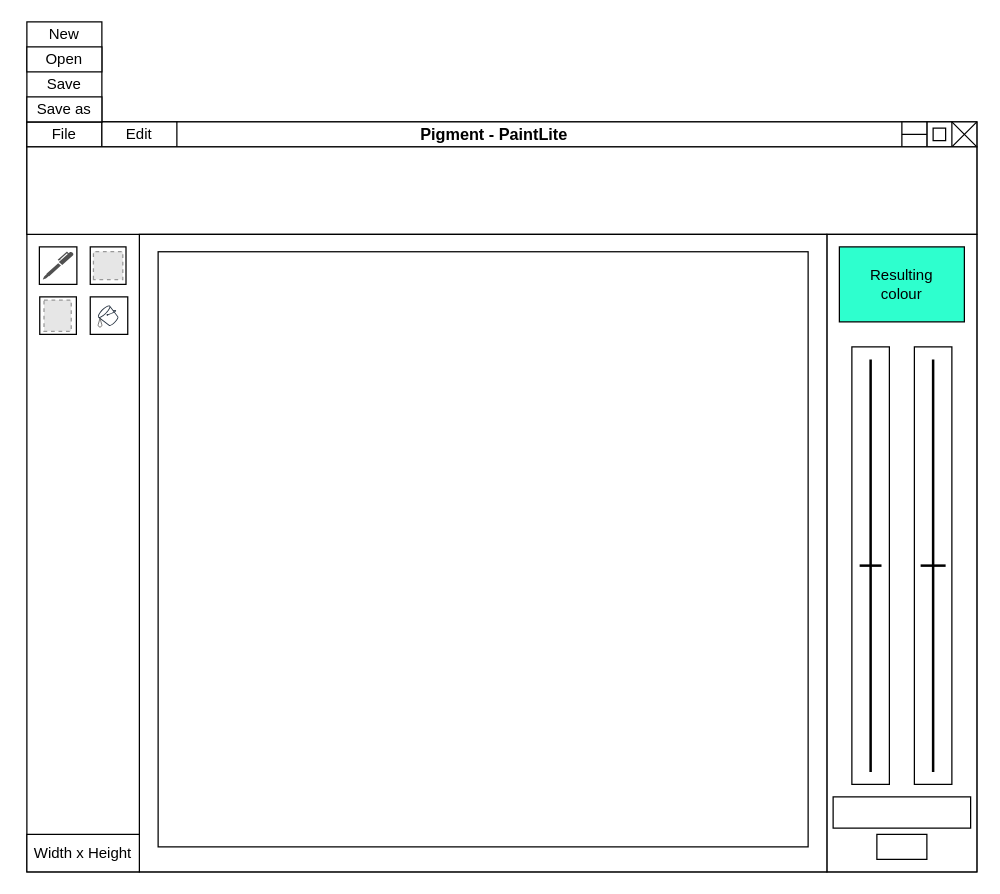
Image size: 1000x894. Some labels were removed from this diagram. Grey dashed boxes stand in for pictures. The box of each missing label's shape, as (x1, y1, x2, y2) in pixels:
#%02x%02x%02x: (832, 796, 971, 828)
Canvas: (157, 250, 808, 847)
Import: (876, 833, 927, 859)
